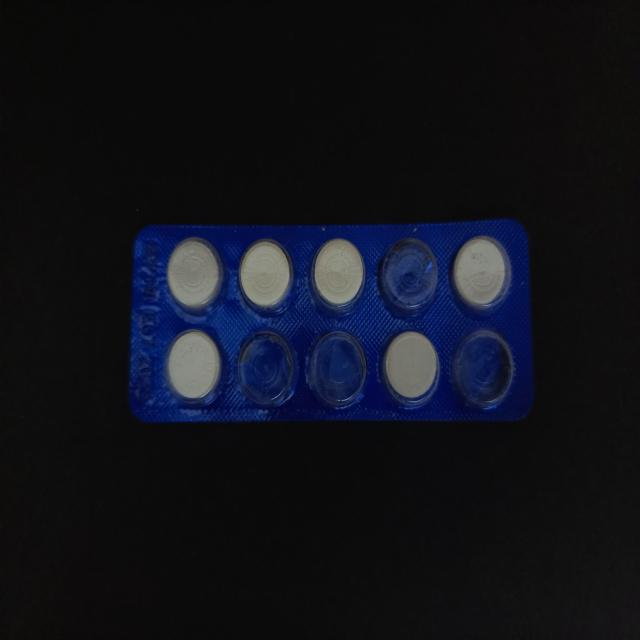defect: (449, 325, 516, 412), (233, 326, 300, 412), (376, 234, 441, 320), (304, 327, 369, 413)
